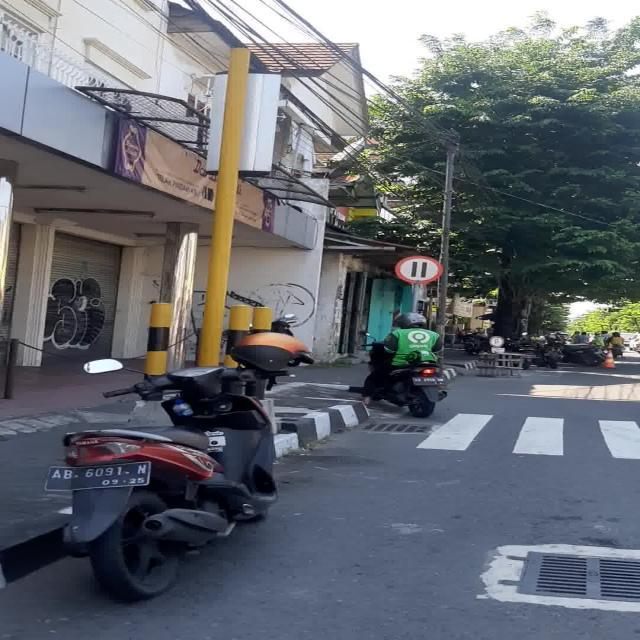Larangan Muatan - 10 ton: (394, 255, 442, 282)
